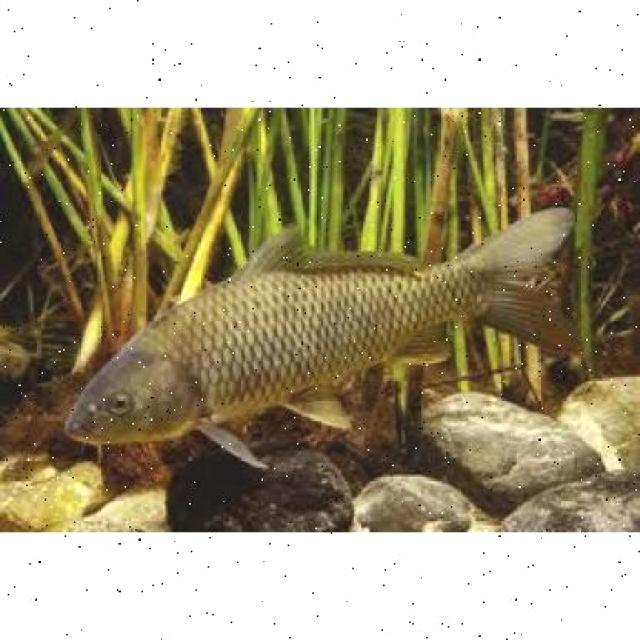ikan-mas: (61, 202, 580, 472)
